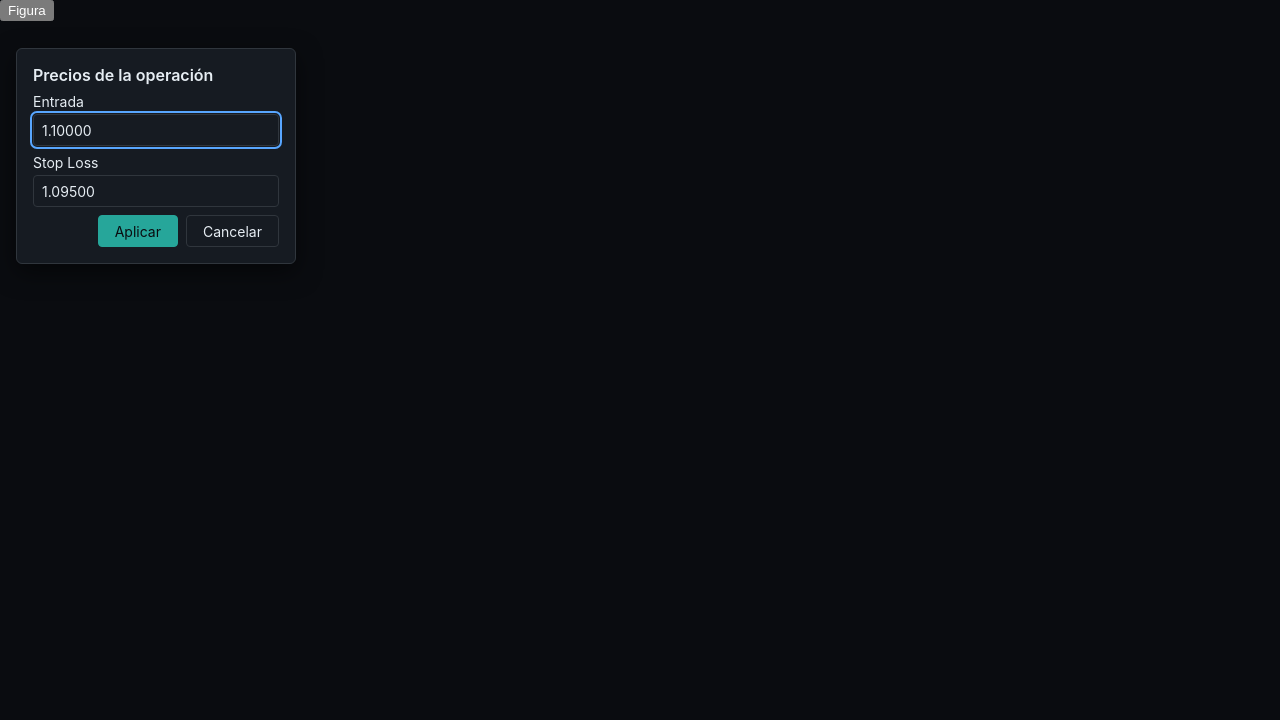
Test: OperationNumericFields (CMP-025, RF-410) › marca riesgo nulo y deshabilita Aplicar cuando Entrada y SL coinciden
This screenshot has width=1280, height=720.
Replace the text in the field labelled "Stop Loss" with "1,10000": (156,191) x1=33 y1=175 x2=279 y2=207
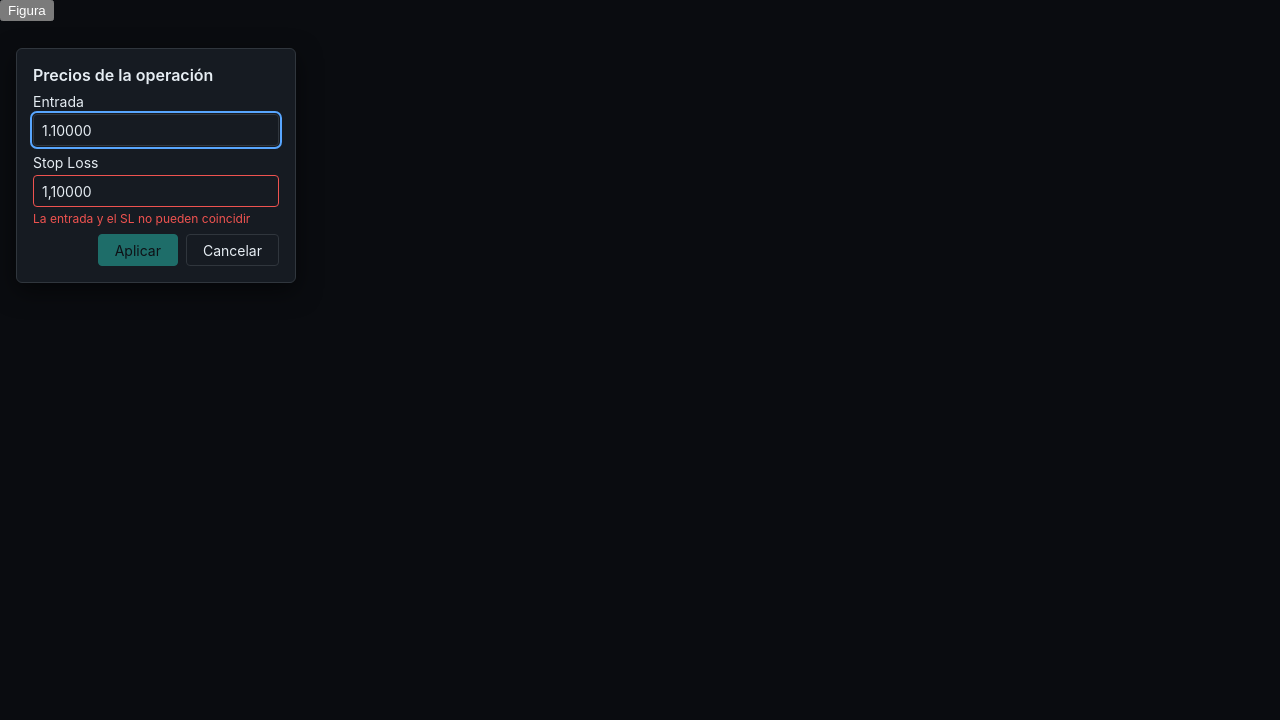
Expected: the message reads "La entrada y el SL no pueden coincidir", x1=33 y1=211 x2=250 y2=226
Expected: the button "Aplicar" is disabled, x1=98 y1=234 x2=178 y2=266
